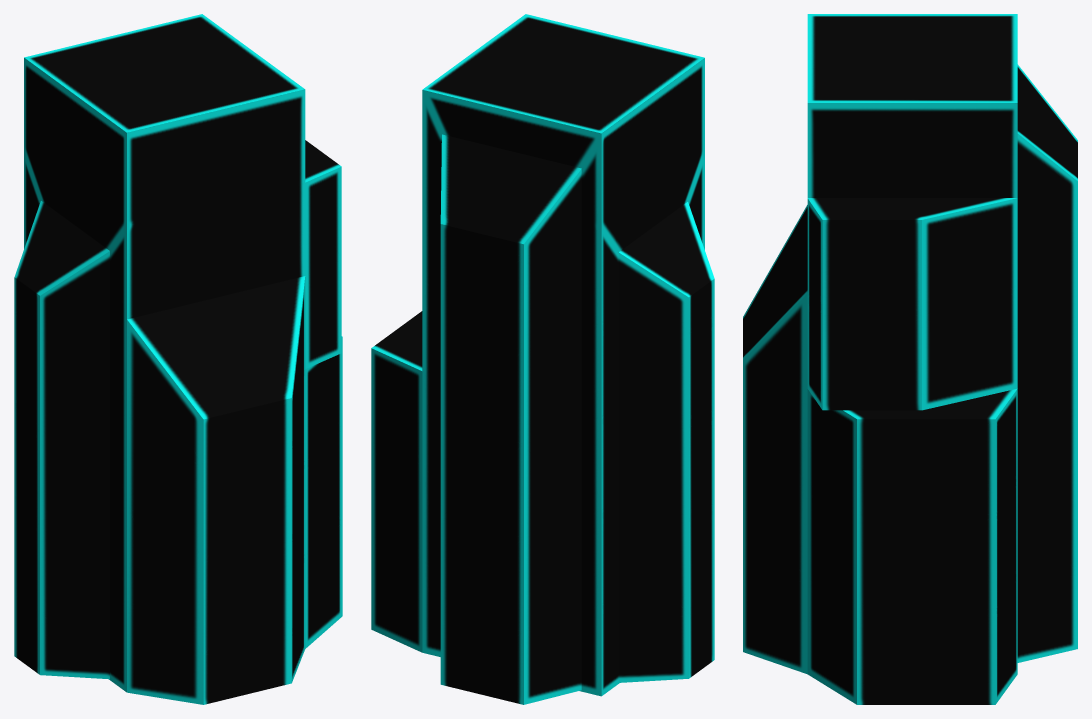
Rendered from SM_City01.fbx.
3 renders of one model, left to right at view 1: azimuth 30°, elevation 25°; view 2: azimuth 150°, elevation 25°; view 3: azimuth 270°, elevation 25°, orthographic. The views are drawn at different scales.
Visible parts, largest first — view 1: SM_City01; view 2: SM_City01; view 3: SM_City01.
Part boxes in pixels (x1,y1,x2,y2): SM_City01: (14,14,342,704); SM_City01: (371,14,714,704); SM_City01: (743,14,1077,704).
Size of the model in its own units: 80.76 by 150 by 79.63.
Materials: 1 (1 with a texture image).
